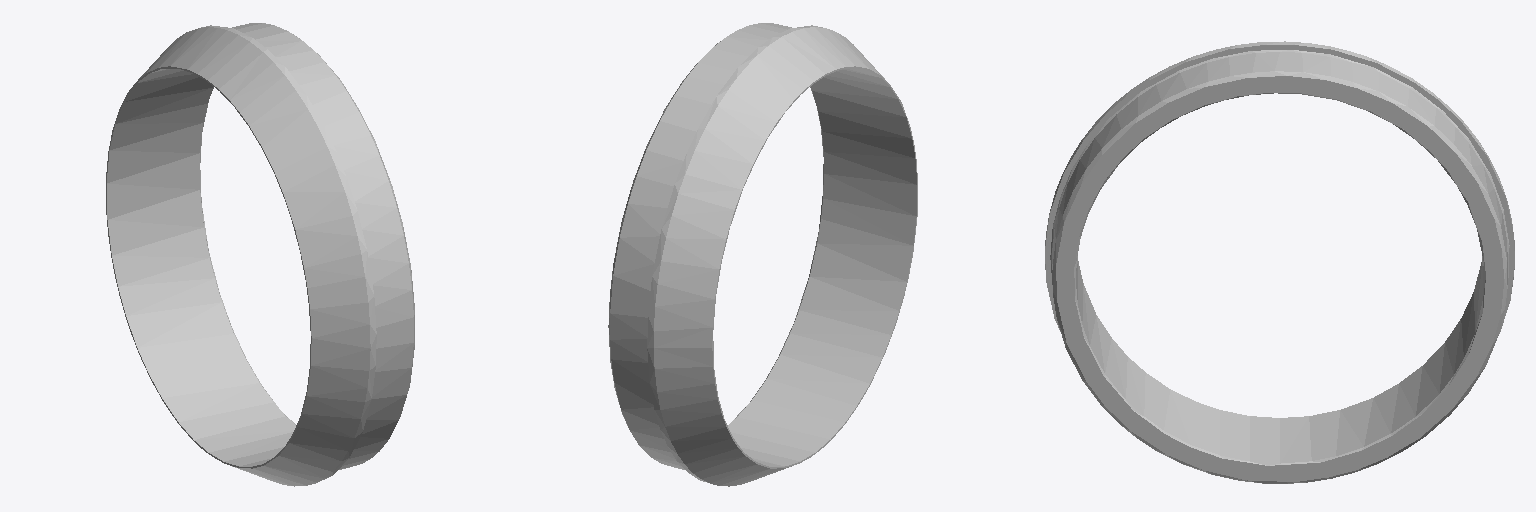
Rendered from sealing ring 2.obj.
The picture shows the model from 3 angles: view 1: azimuth 30°, elevation 25°; view 2: azimuth 150°, elevation 25°; view 3: azimuth 270°, elevation 25°; orthographic projection.
Visible parts, largest first — view 1: imagetostl_mesh; view 2: imagetostl_mesh; view 3: imagetostl_mesh.
Boxes of the visible parts, x1=… form: imagetostl_mesh: x1=106, y1=23, x2=414, y2=486; imagetostl_mesh: x1=608, y1=23, x2=917, y2=486; imagetostl_mesh: x1=1045, y1=41, x2=1514, y2=483.
Bounding box in the file's own units: 30 × 129 × 129.